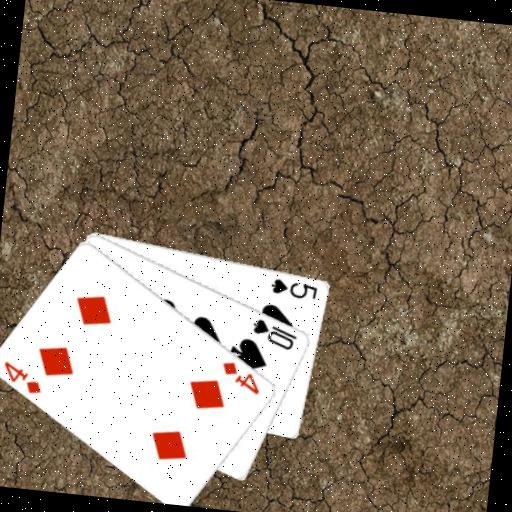10S: (248, 315, 301, 353)
4D: (217, 358, 264, 397), (0, 357, 46, 396)
5S: (268, 274, 321, 302)
